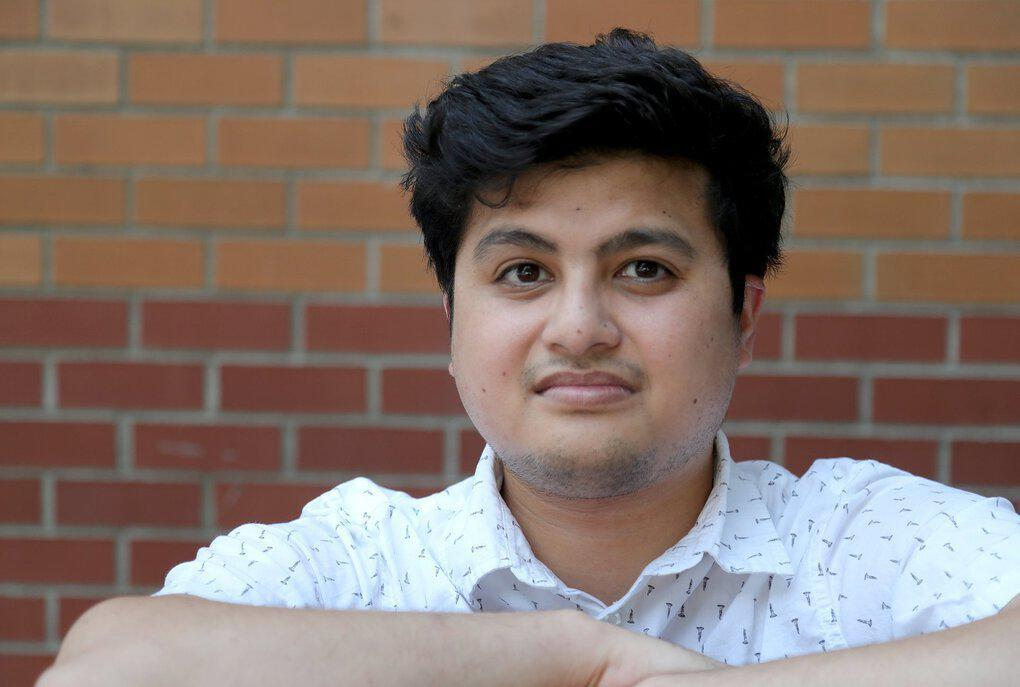Sober: (466, 169, 707, 467)
